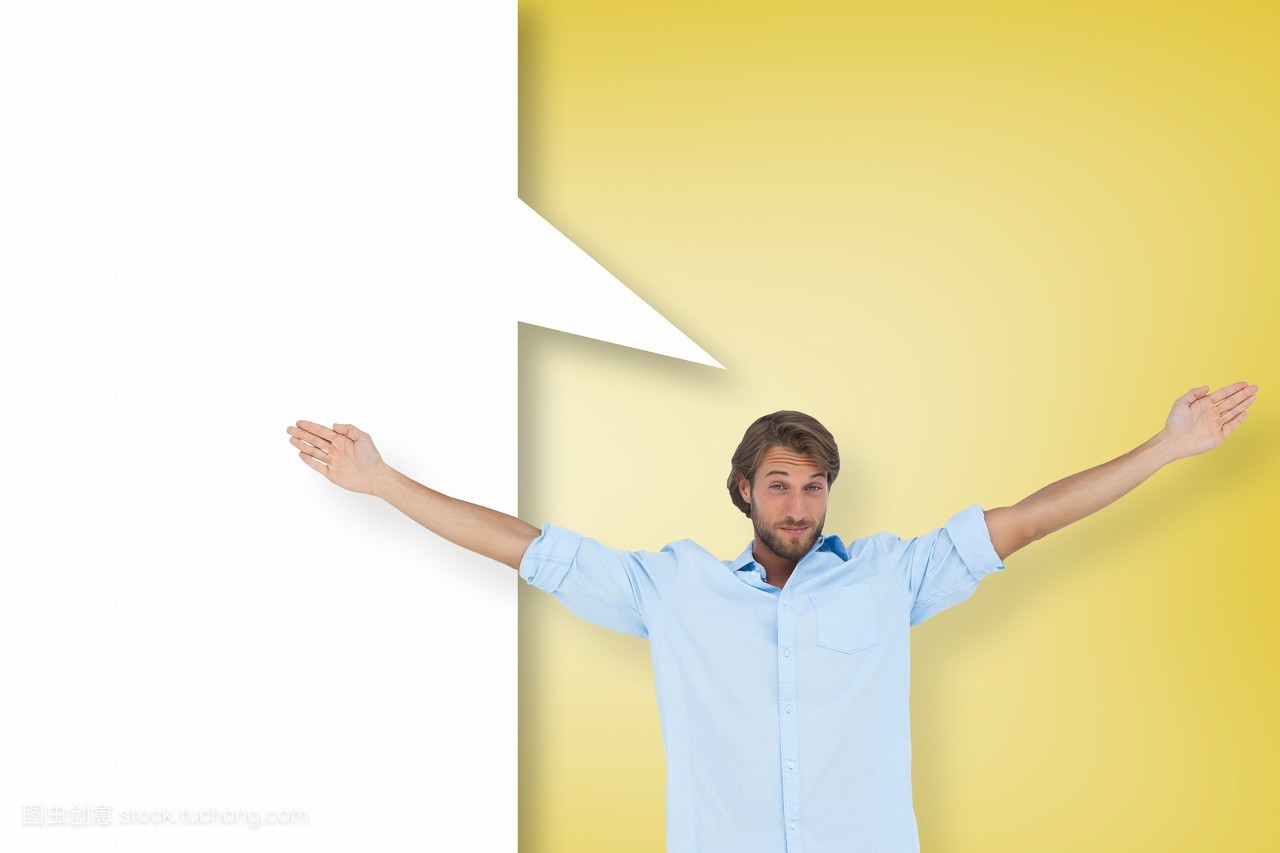handsup: (265, 382, 1263, 848)
